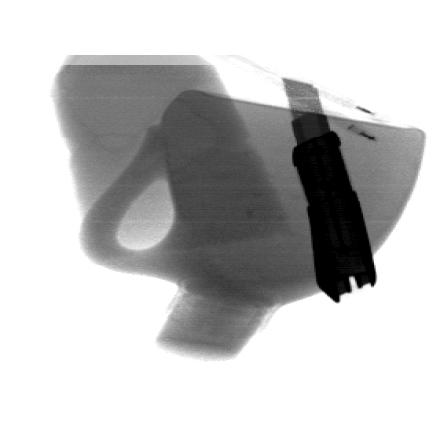Knife: (280, 76, 378, 307)
